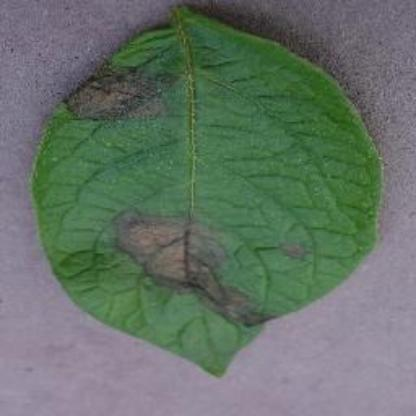Late-Blight: (32, 0, 382, 380)
